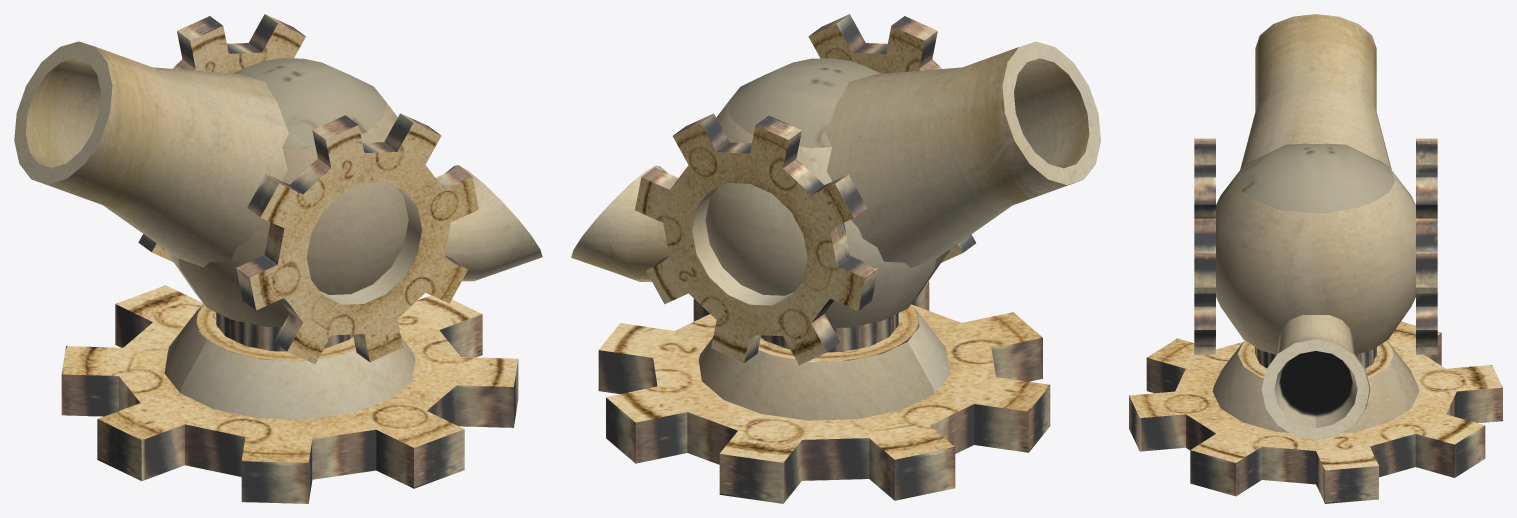
The model's file is cannon.fbx.
The picture shows the model from 3 angles, left to right: view 1: azimuth 30°, elevation 25°; view 2: azimuth 150°, elevation 25°; view 3: azimuth 270°, elevation 25°; orthographic projection. The views are drawn at different scales.
Visible parts, largest first — view 1: GearBottom, PipeOut, Main, GearLeft, PipeIn, GearLeft.001; view 2: GearBottom, PipeOut, Main, GearLeft.001, PipeIn, GearLeft; view 3: Main, GearBottom, PipeOut, PipeIn, GearLeft, GearLeft.001.
Part boxes in pixels (box(x1,y1,x2,y2)): GearBottom: box(61, 285, 518, 503); PipeOut: box(14, 41, 288, 267); Main: box(164, 58, 415, 419); GearLeft: box(236, 113, 478, 363); PipeIn: box(445, 165, 542, 281); GearLeft.001: box(138, 14, 305, 262); GearBottom: box(598, 281, 1050, 503); PipeOut: box(825, 41, 1100, 267); Main: box(698, 58, 950, 420); GearLeft.001: box(635, 113, 878, 364); PipeIn: box(571, 165, 668, 281); GearLeft: box(808, 14, 975, 262); Main: box(1212, 143, 1419, 432); GearBottom: box(1129, 321, 1502, 503); PipeOut: box(1240, 14, 1391, 169); PipeIn: box(1261, 315, 1370, 439); GearLeft: box(1194, 138, 1215, 354); GearLeft.001: box(1416, 138, 1437, 354).
Size of the model in its own units: 381 by 299 by 304.
